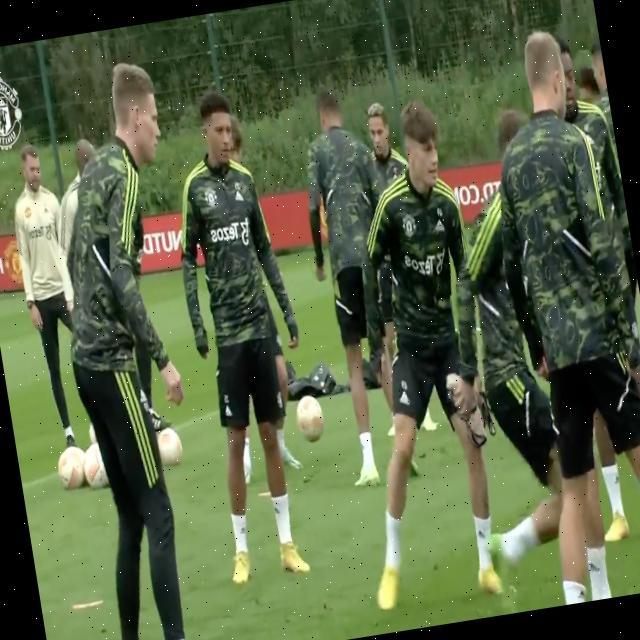Adidas: (588, 558, 601, 577), (399, 390, 411, 409), (233, 189, 245, 205), (434, 217, 446, 233)
